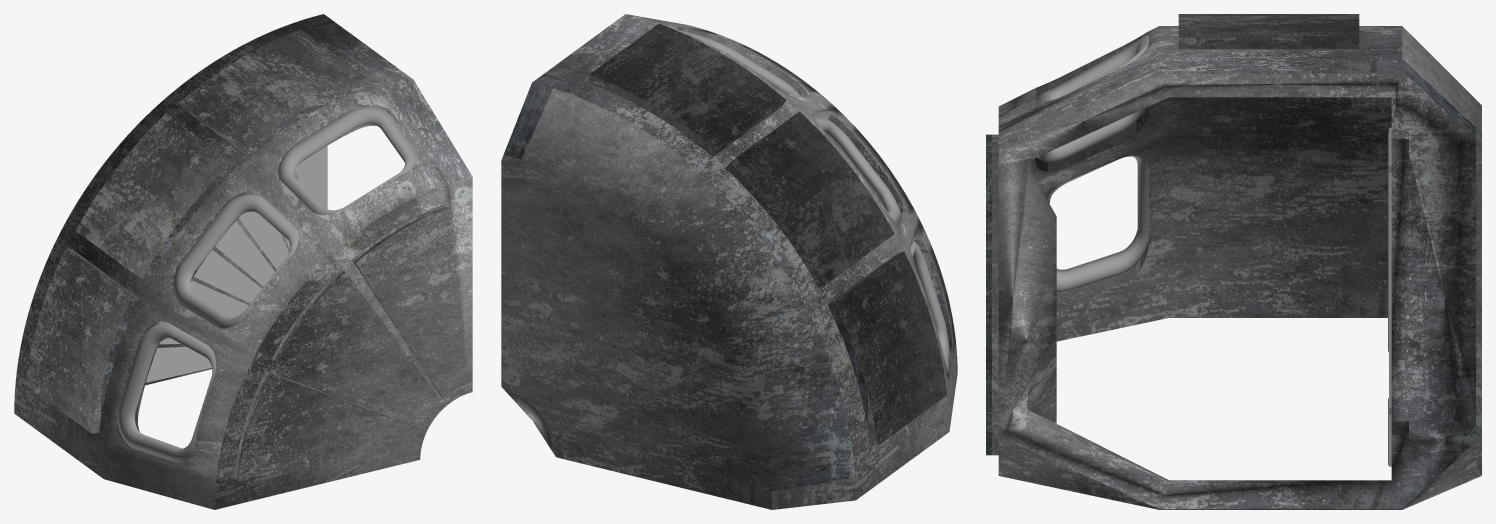
Rendered from Corner.obj.
3 views of the same model, side by side, from view 1: azimuth 30°, elevation 25°; view 2: azimuth 150°, elevation 25°; view 3: azimuth 270°, elevation 25° (orthographic). The views are drawn at different scales.
Visible parts, largest first — view 1: Line182, Box576, Box577, Box579, Box578, Box580, Box575, Rectangle70, Rectangle68, Rectangle69, Box898, Box897 (+4 smaller); view 2: Line182, Box576, Box577, Box575, Rectangle70, Rectangle68, Rectangle69; view 3: Line182, Box575, Box579, Rectangle68, Rectangle69, Rectangle70, Box900.
Part boxes in pixels (<box>): Line182: <box>14,14,472,509</box>; Box576: <box>75,113,236,281</box>; Box577: <box>25,247,139,433</box>; Box579: <box>351,205,469,398</box>; Box578: <box>234,370,419,478</box>; Box580: <box>272,269,440,425</box>; Box575: <box>179,29,367,157</box>; Rectangle70: <box>173,194,298,328</box>; Rectangle68: <box>117,322,216,463</box>; Rectangle69: <box>278,106,417,215</box>; Box898: <box>215,221,275,286</box>; Box897: <box>194,250,261,303</box>; Line182: <box>501,14,957,509</box>; Box576: <box>725,111,894,287</box>; Box577: <box>827,251,947,445</box>; Box575: <box>588,23,786,156</box>; Rectangle70: <box>814,116,901,225</box>; Rectangle68: <box>910,241,949,377</box>; Rectangle69: <box>679,29,801,97</box>; Line182: <box>998,26,1481,509</box>; Box575: <box>1178,14,1359,49</box>; Box579: <box>986,134,998,411</box>; Rectangle68: <box>1044,155,1148,291</box>; Rectangle69: <box>1036,34,1148,101</box>; Rectangle70: <box>1037,108,1145,162</box>; Box900: <box>1389,139,1391,418</box>.
Size of the model in its own units: 40.06 by 40.12 by 40.32.
